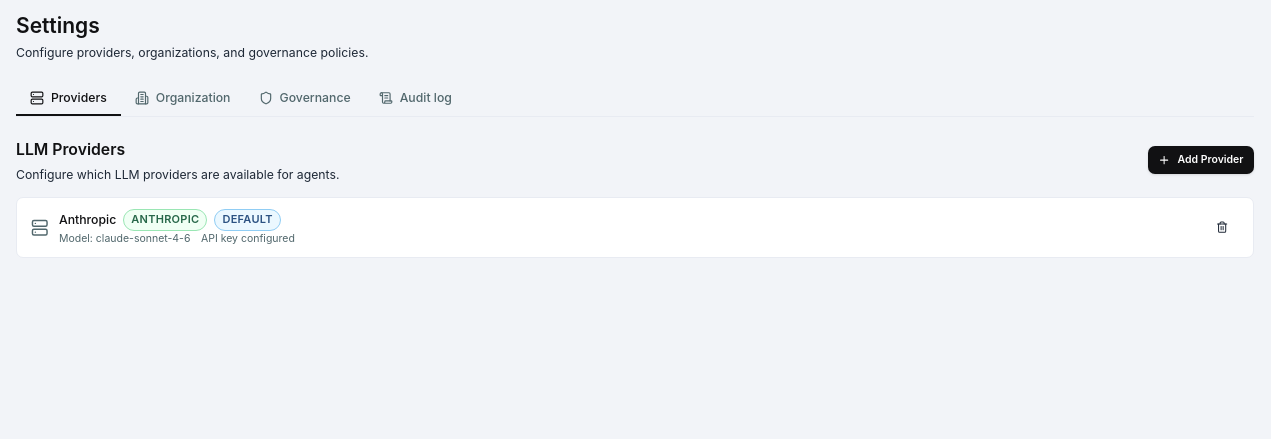
Test case: SettingsPage › switches to Governance tab and shows provider access section
Click the button "Governance".
click(305, 99)  # box [244,82,365,116]
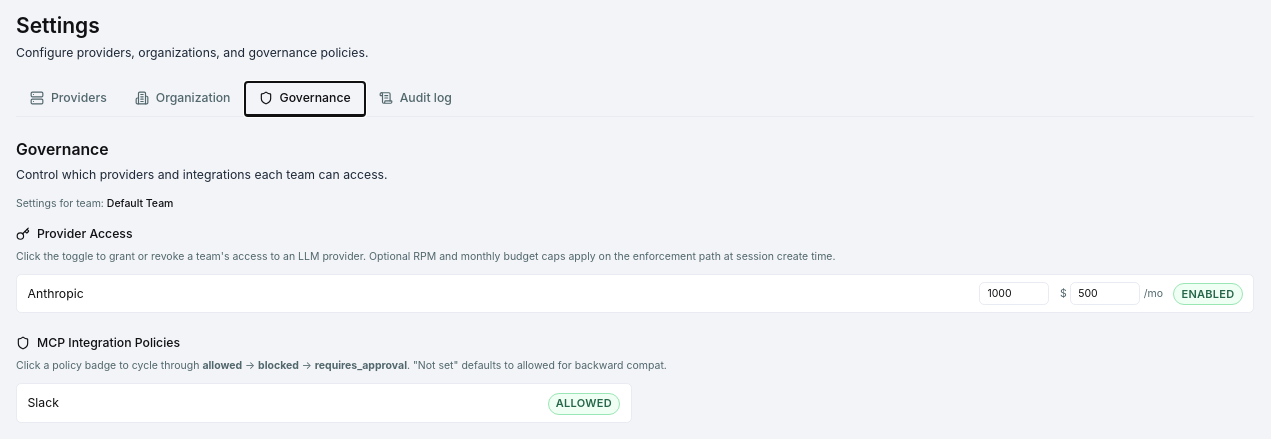
Check: the heading "Provider Access" is shown, box [16,226,133,241]
Check: the heading "MCP Integration Policies" is shown, box [16,335,180,350]
